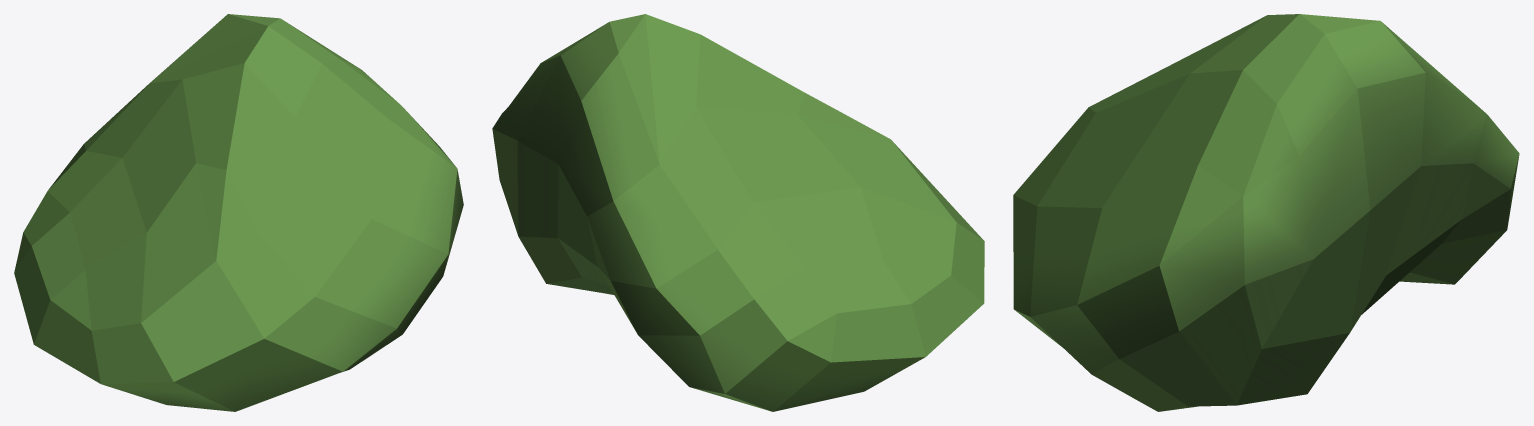
The model's file is Birch-Bush-09.fbx.
3 renders of one model, left to right at view 1: azimuth 30°, elevation 25°; view 2: azimuth 150°, elevation 25°; view 3: azimuth 270°, elevation 25°, orthographic. The views are drawn at different scales.
Parts seen in each view (by area): view 1: Birch-Bush-09; view 2: Birch-Bush-09; view 3: Birch-Bush-09.
Boxes of the visible parts, left/top/right/bottom form: Birch-Bush-09: left=14, top=14, right=463, bottom=411; Birch-Bush-09: left=492, top=14, right=984, bottom=411; Birch-Bush-09: left=1013, top=14, right=1519, bottom=411.
Size of the model in its own units: 407 by 295 by 360.
Materials: 1 (1 with a texture image).
